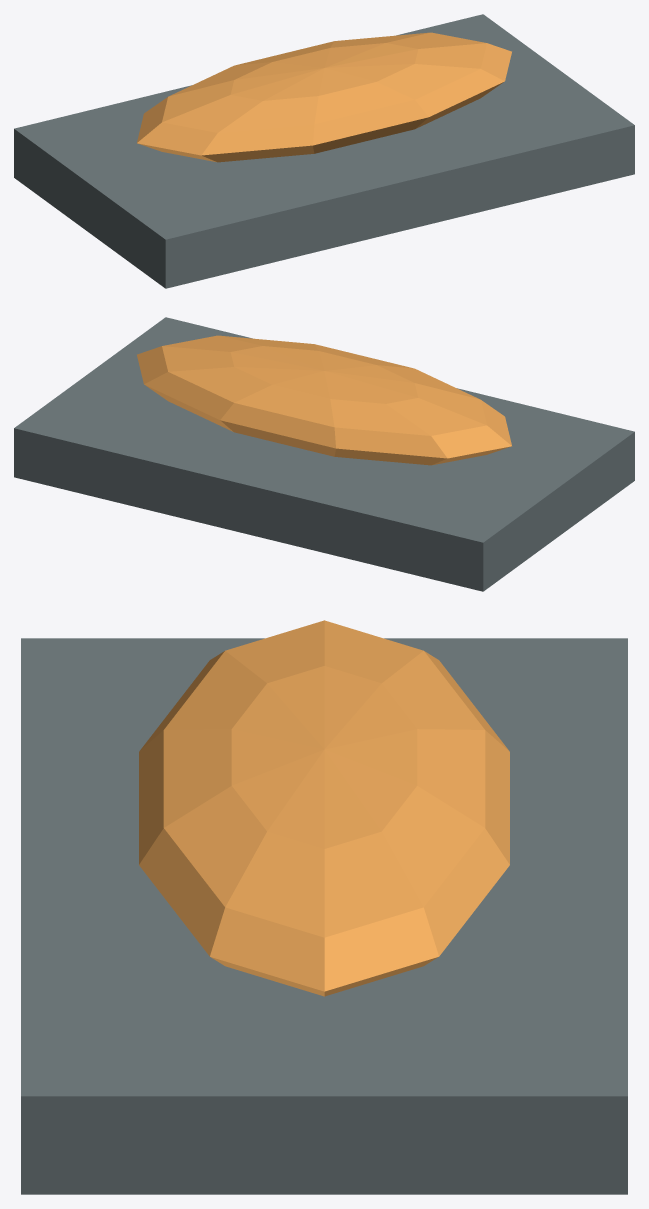
File: supermarket-operations-fish-fillet-tray-e9b0db54__26893.glb
The picture shows the model from 3 angles, top to bottom: view 1: azimuth 30°, elevation 25°; view 2: azimuth 150°, elevation 25°; view 3: azimuth 270°, elevation 25°; orthographic projection. The views are drawn at different scales.
Visible parts, largest first — view 1: fish-fillet-tray; view 2: fish-fillet-tray; view 3: fish-fillet-tray.
Boxes of the visible parts, x1,y1,x2,y2 form: fish-fillet-tray: (14, 14, 634, 288); fish-fillet-tray: (14, 317, 634, 591); fish-fillet-tray: (21, 620, 627, 1194).
Bounding box in the file's own units: 0.25 × 0.055 × 0.14.
